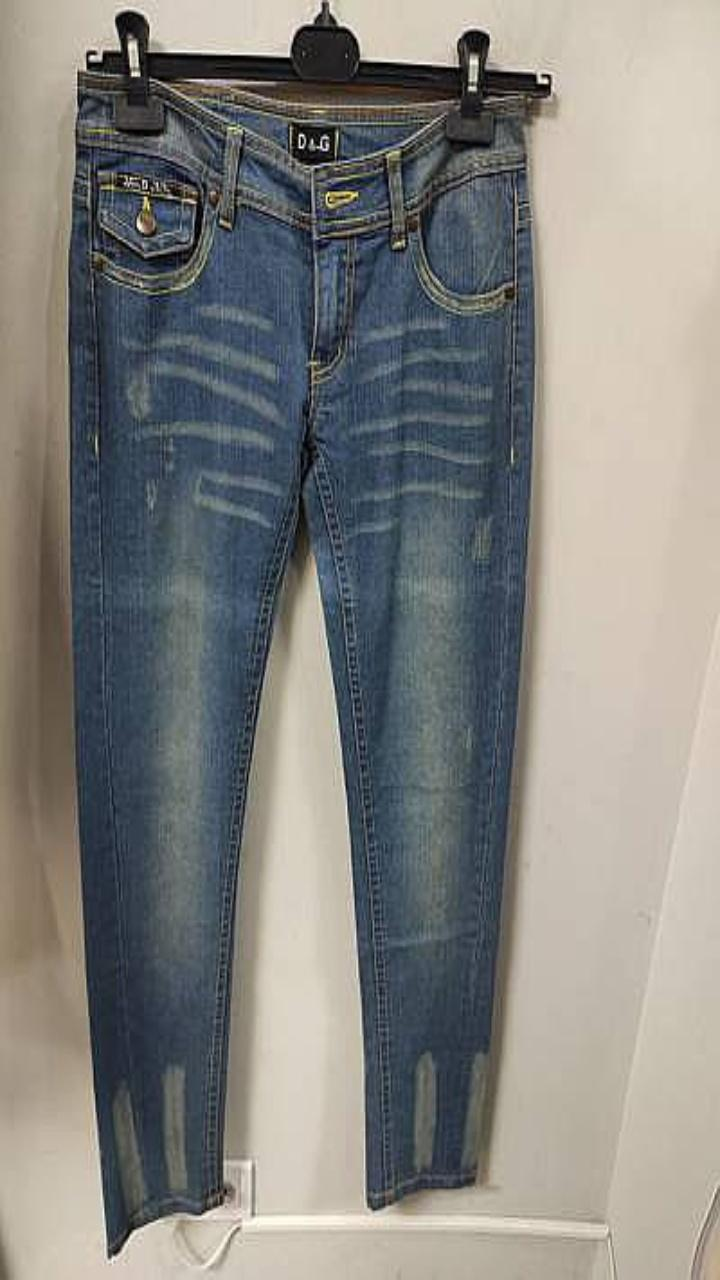Jeans: (68, 71, 533, 1256)
